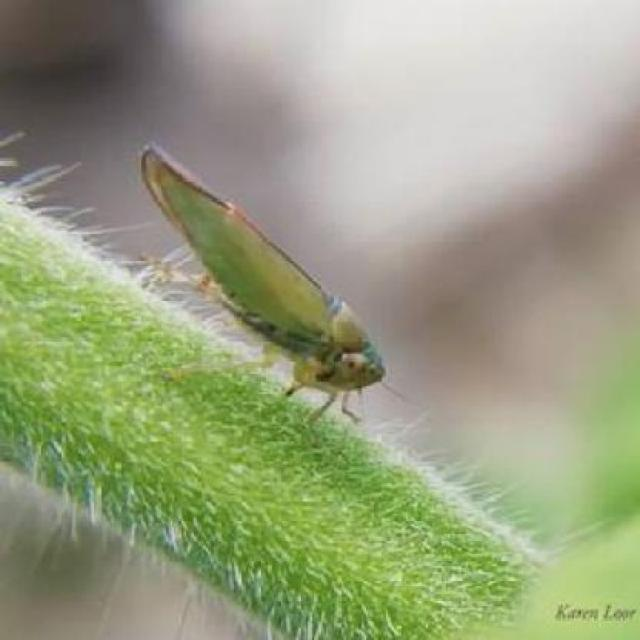green-leafhopper: (137, 145, 391, 426)
